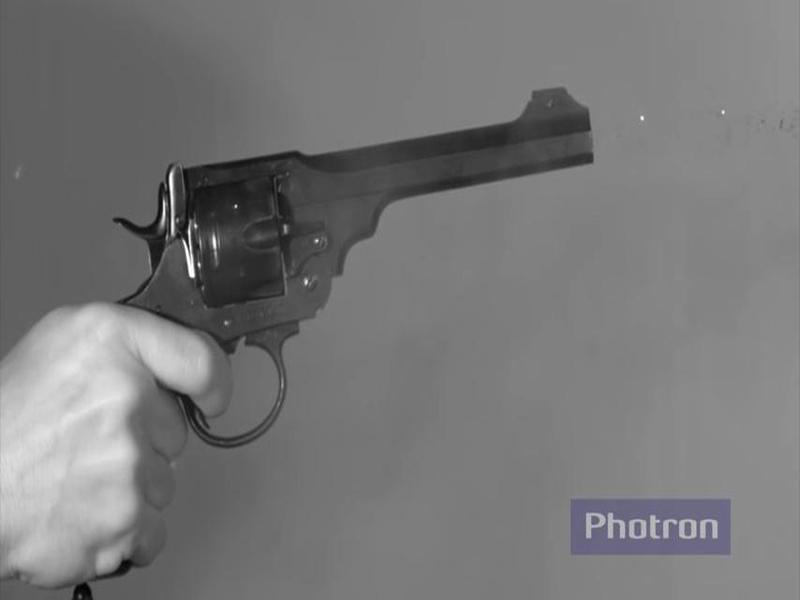Revolver: (105, 85, 647, 440)
